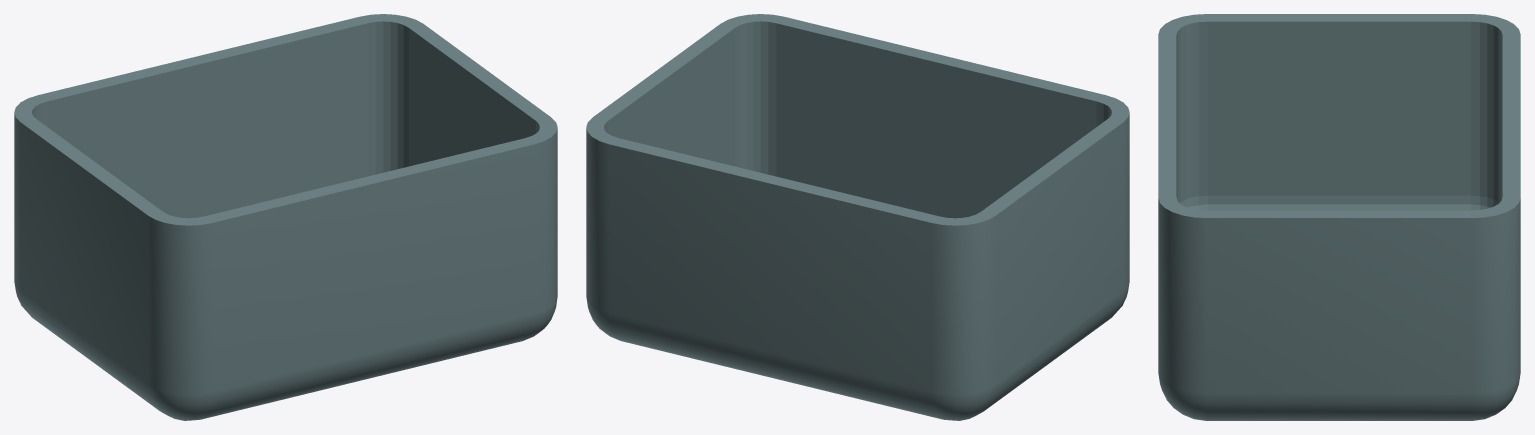
The model's file is edits_shell.glb.
3 views of the same model, side by side, from view 1: azimuth 30°, elevation 25°; view 2: azimuth 150°, elevation 25°; view 3: azimuth 270°, elevation 25° (orthographic). The views are drawn at different scales.
Visible parts, largest first — view 1: tray; view 2: tray; view 3: tray.
Boxes of the visible parts, x1=… form: tray: x1=14, y1=14, x2=557, y2=420; tray: x1=586, y1=14, x2=1129, y2=420; tray: x1=1158, y1=14, x2=1520, y2=420.
Size of the model in its own units: 0.04 by 0.02 by 0.03.
